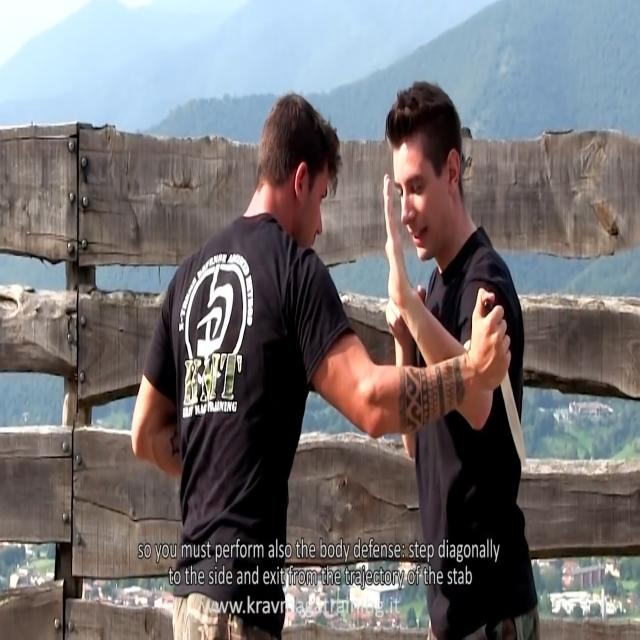knife: (502, 371, 530, 469)
